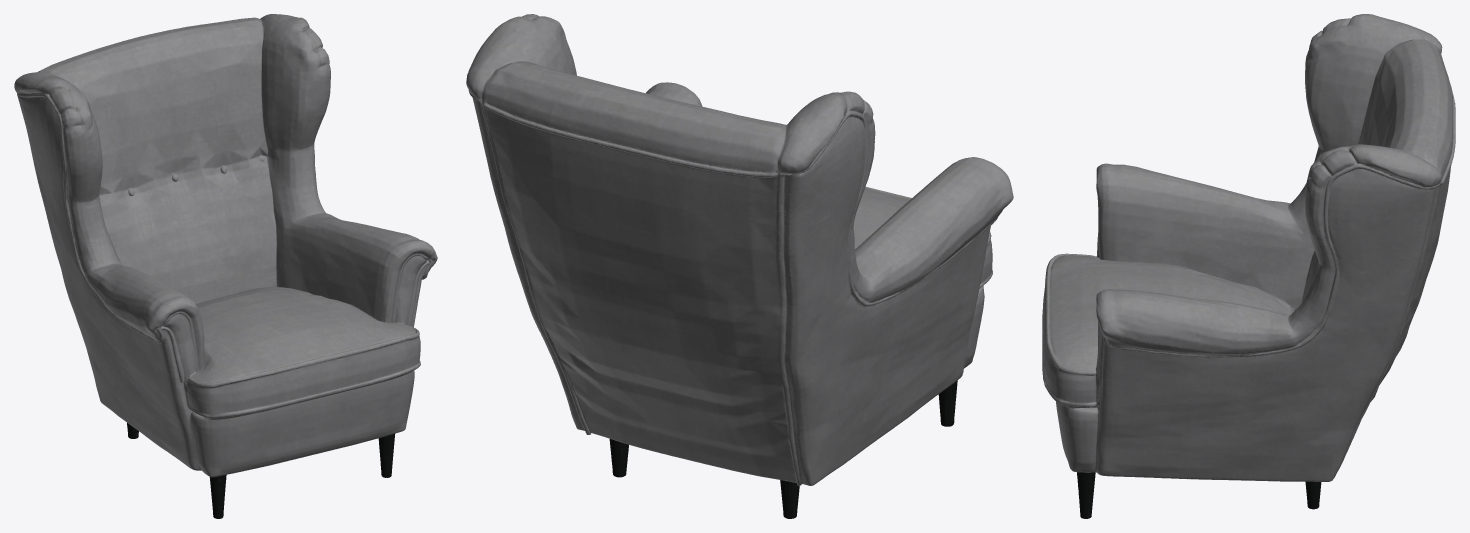
3 renders of one model, left to right at view 1: azimuth 30°, elevation 25°; view 2: azimuth 150°, elevation 25°; view 3: azimuth 270°, elevation 25°, orthographic. The views are drawn at different scales.
Visible parts, largest first — view 1: geometry_0; view 2: geometry_0; view 3: geometry_0.
Boxes of the visible parts, x1,y1,x2,y2 form: geometry_0: (14,14,437,518); geometry_0: (466,14,1013,518); geometry_0: (1042,14,1455,518).
Bounding box in the file's own units: 0.7181 × 0.8452 × 0.8098.
Materials: 1 (1 with a texture image).
